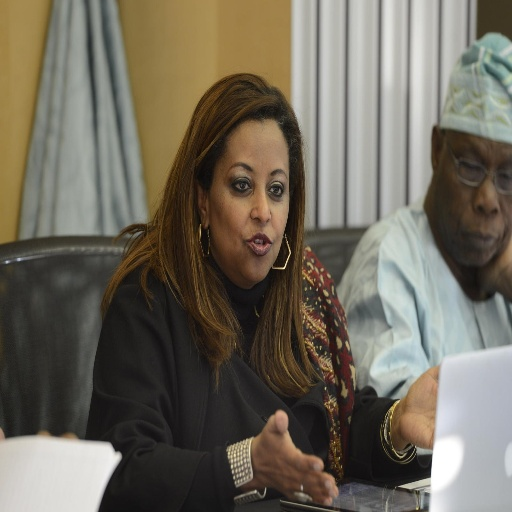hand: (236, 407, 315, 510), (459, 226, 511, 299), (396, 366, 441, 449)
